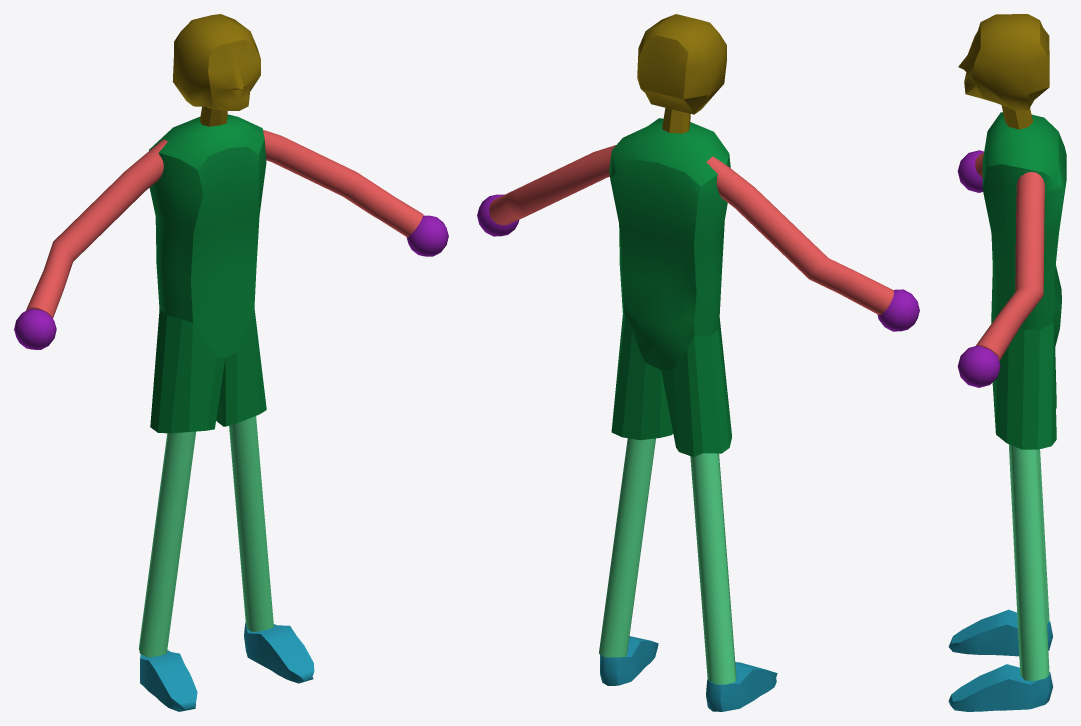
Rendered from MAP.obj.
3 renders of one model, left to right at view 1: azimuth 30°, elevation 25°; view 2: azimuth 150°, elevation 25°; view 3: azimuth 270°, elevation 25°, orthographic.
Parts seen in each view (by area): view 1: Body, Head, LegR, LegL, ArmR, ArmL, FootL, FootR, HandR, HandL; view 2: Body, Head, LegR, ArmR, LegL, ArmL, FootR, FootL, HandR, HandL; view 3: Body, Head, LegL, ArmL, FootL, FootR, HandL, HandR, LegR.
Boxes of the visible parts, x1,y1,x2,y2 form: Body: (149, 114, 266, 433); Head: (172, 14, 260, 126); LegR: (138, 431, 195, 657); LegL: (229, 416, 273, 631); ArmR: (26, 139, 167, 317); ArmL: (263, 130, 423, 237); FootL: (244, 622, 314, 683); FootR: (140, 650, 197, 711); HandR: (14, 308, 56, 349); HandL: (406, 215, 448, 256); Body: (609, 118, 731, 456); Head: (637, 14, 726, 133); LegR: (690, 453, 736, 684); ArmR: (706, 156, 893, 314); LegL: (599, 438, 655, 657); ArmL: (489, 145, 615, 225); FootR: (706, 662, 777, 711); FootL: (600, 636, 658, 685); HandR: (877, 289, 919, 331); HandL: (477, 194, 519, 236); Body: (982, 112, 1066, 449); Head: (958, 14, 1049, 129); LegL: (1009, 444, 1049, 680); ArmL: (976, 171, 1044, 360); FootL: (948, 664, 1052, 711); FootR: (948, 609, 1052, 656); HandL: (957, 345, 1000, 387); HandR: (957, 150, 983, 192); LegR: (1038, 449, 1049, 623).
Bounding box in the file's own units: 41.11 × 59.7 × 9.73.
